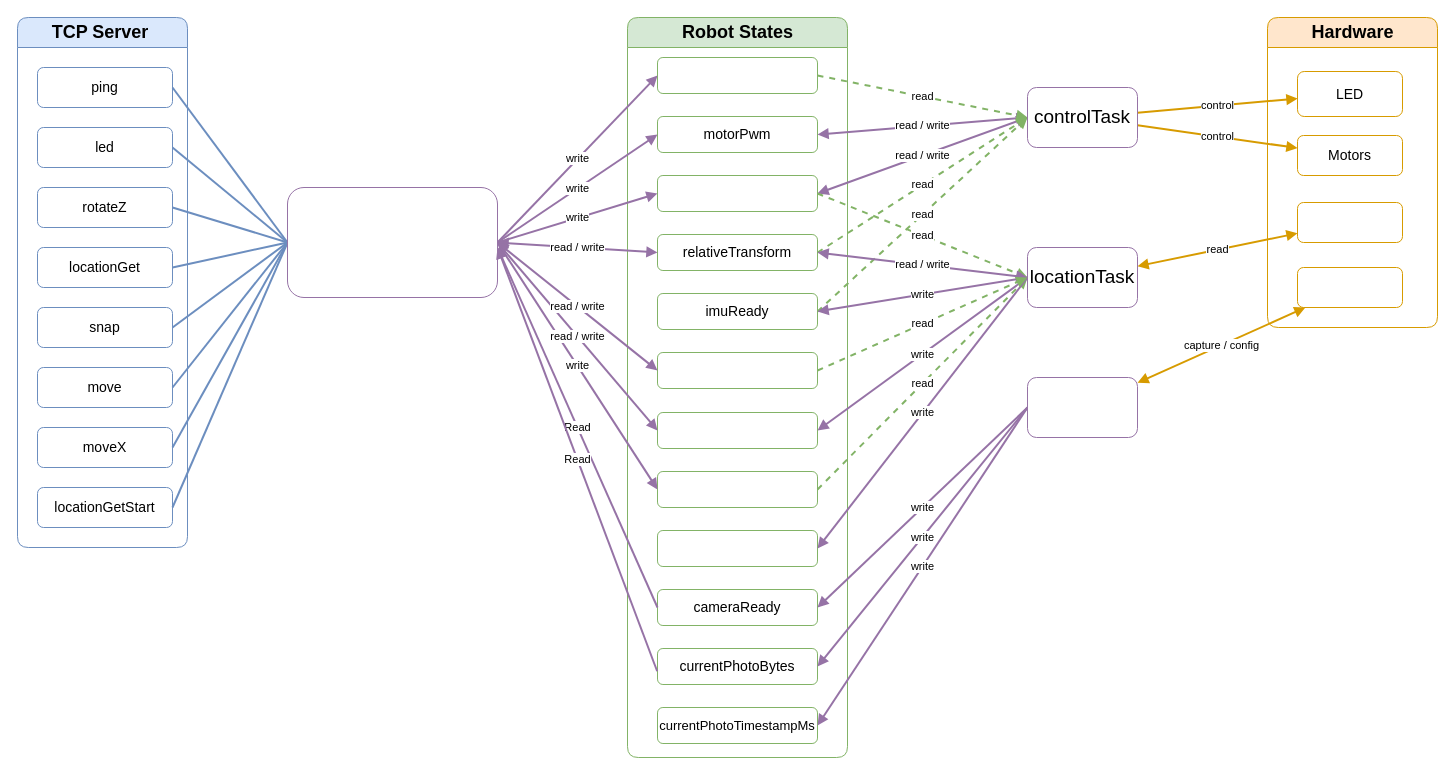
Image size: 1455x775. Some labels were removed from this diagram. Here are the shapes that lost their labels. From the top down, the box of each, then its label:
(656, 56, 818, 94): ledDuty
(656, 174, 818, 212): movementState
(286, 186, 498, 298): wifiTask
(1296, 202, 1402, 242): IMU
(1296, 266, 1402, 308): Camera
(656, 352, 818, 388): locationTrackingEnabled
(1026, 376, 1138, 438): cameraTask
(656, 412, 818, 448): referenceTransform
(656, 470, 818, 508): moveSpeedCmPerSec
(656, 530, 818, 566): currentImu
